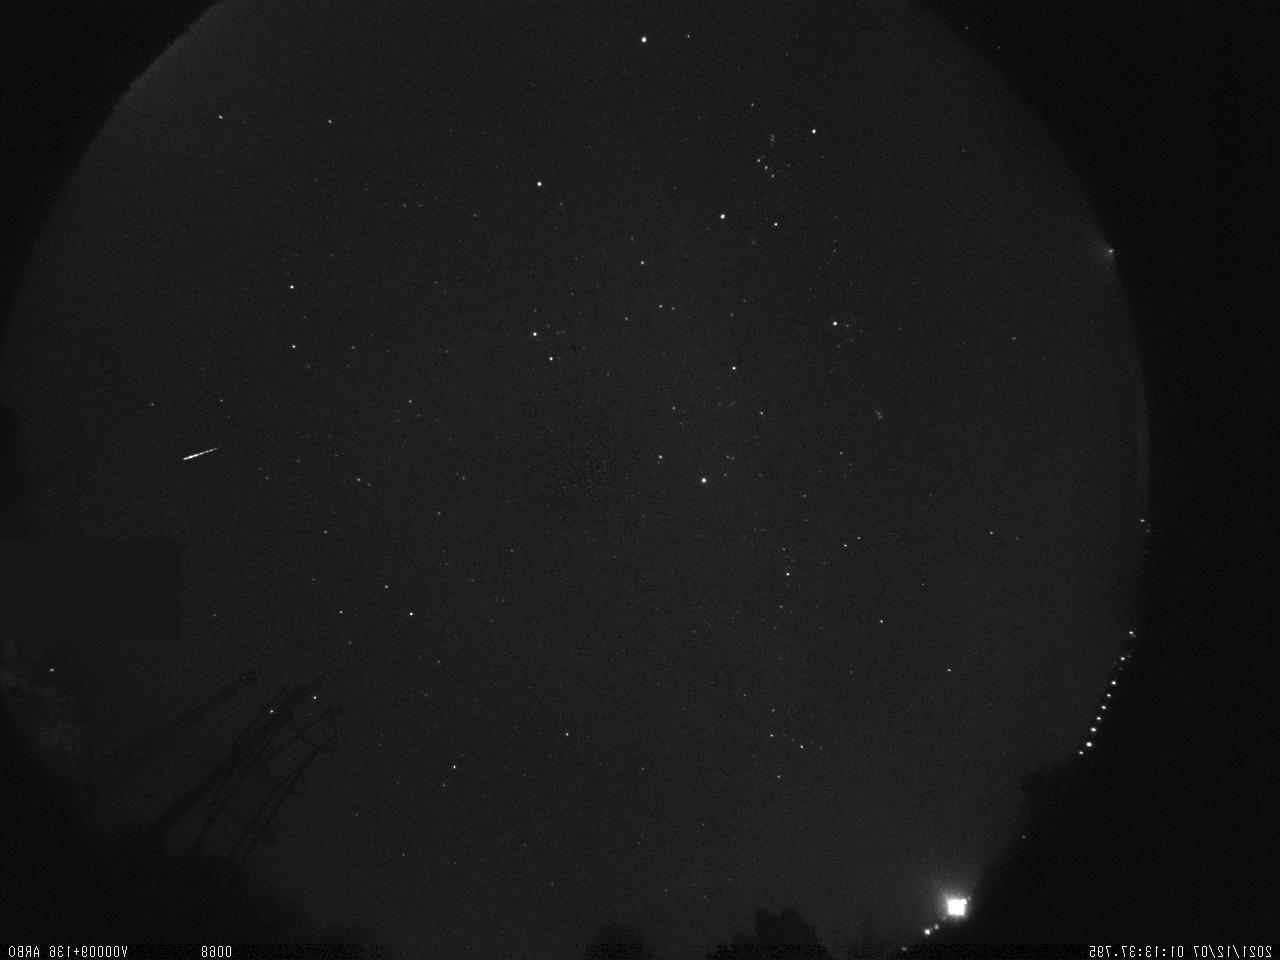meteor: (147, 423, 242, 492)
